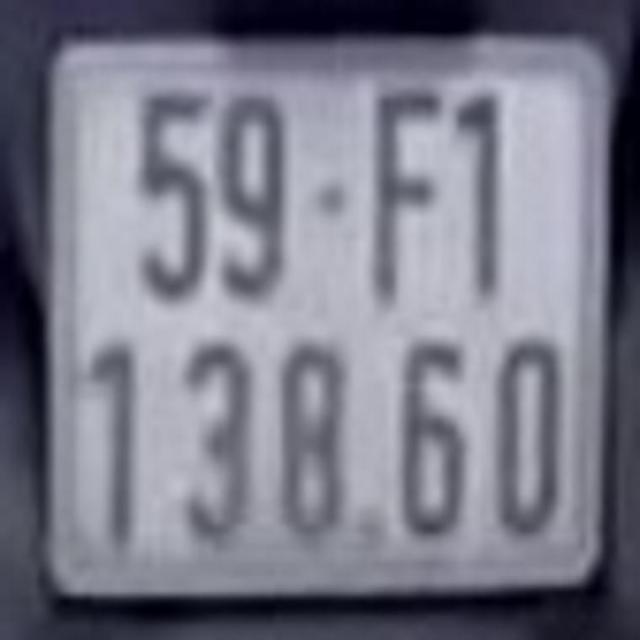0: (498, 337, 562, 538)
1: (460, 89, 511, 304), (89, 345, 143, 545)
3: (180, 330, 253, 551)
5: (141, 90, 208, 296)
6: (398, 331, 468, 535)
8: (283, 338, 347, 549)
9: (218, 93, 287, 306)
F: (366, 90, 446, 303)
